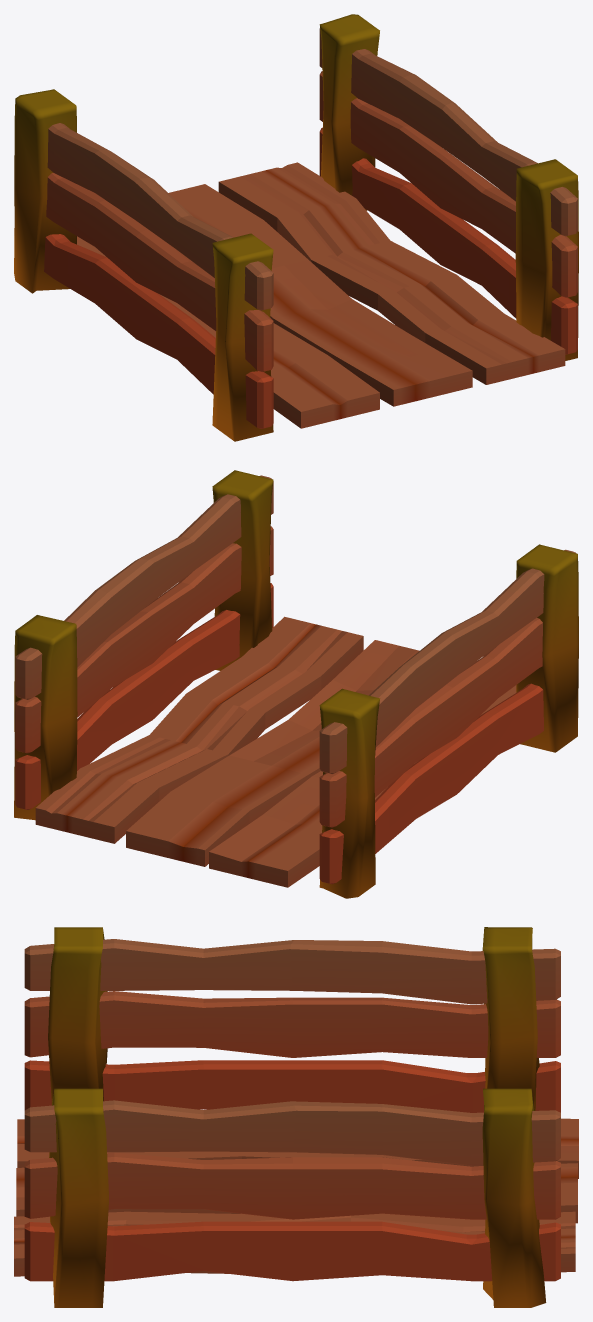
File: СЕГМЕНТ ПРЯМО.fbx
3 renders of one model, top to bottom at view 1: azimuth 30°, elevation 25°; view 2: azimuth 150°, elevation 25°; view 3: azimuth 270°, elevation 25°, orthographic. The views are drawn at different scales.
Parts seen in each view (by area): view 1: Cube, Cube.005; view 2: Cube, Cube.005; view 3: Cube, Cube.005.
Boxes of the visible parts, x1,y1,x2,y2 form: Cube: [14, 14, 578, 441]; Cube.005: [77, 162, 565, 428]; Cube: [14, 470, 578, 898]; Cube.005: [35, 616, 516, 887]; Cube: [24, 927, 560, 1307]; Cube.005: [14, 1118, 578, 1276].
Size of the model in its own units: 831 by 414 by 1059.
